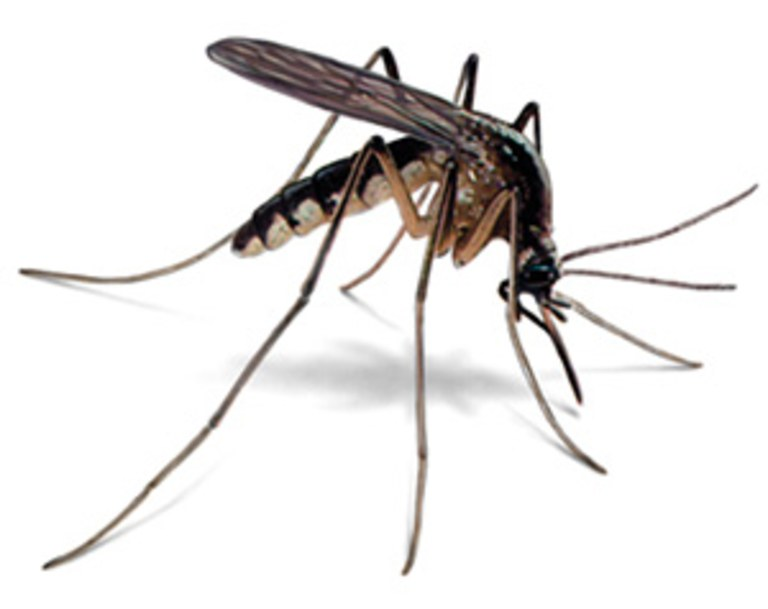mosquito: (20, 20, 763, 597)
